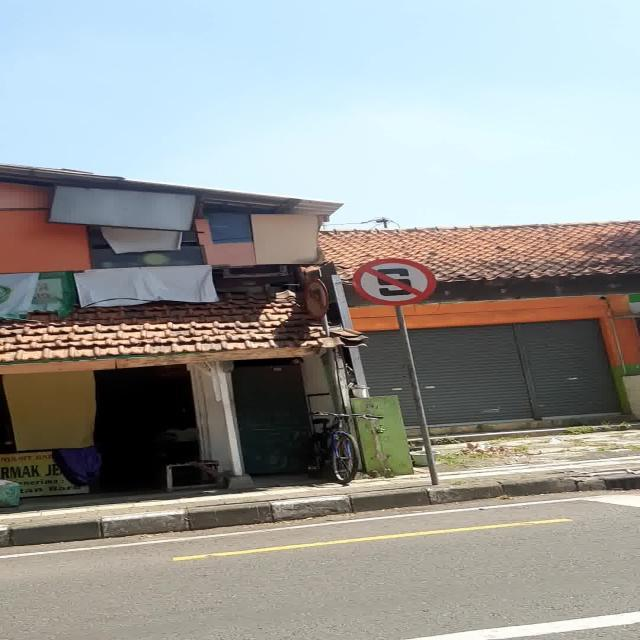Dilarang Berhenti: (352, 258, 436, 305)
